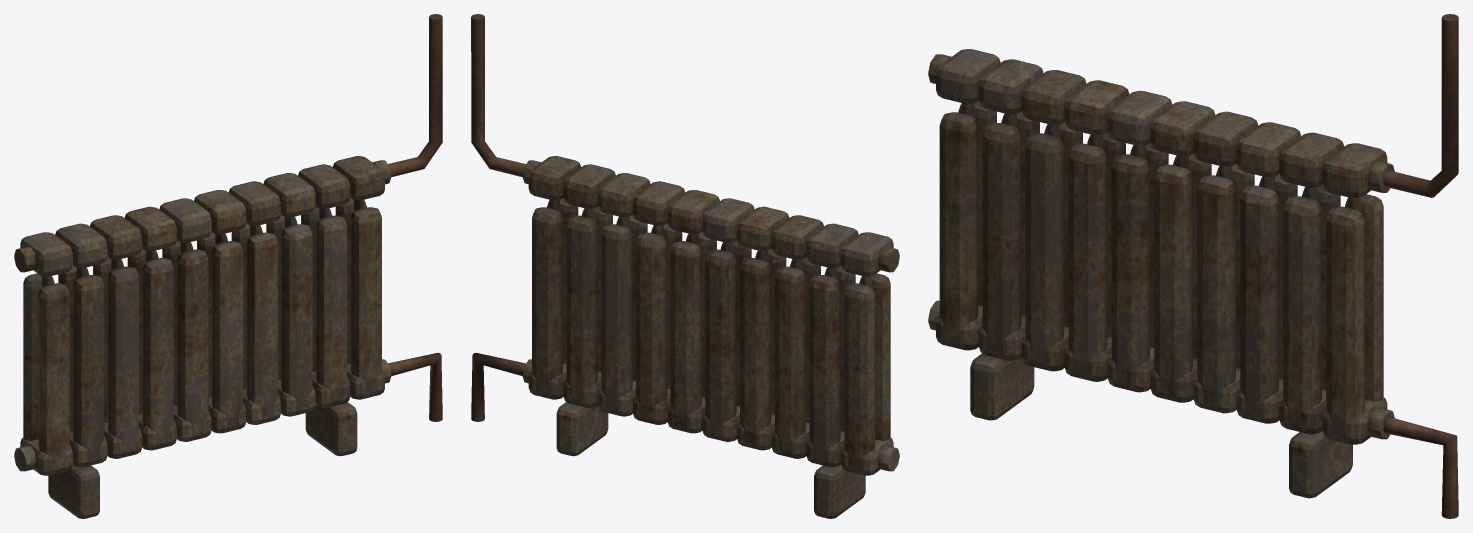
Rendered from Radiator_Basement.fbx.
3 renders of one model, left to right at view 1: azimuth 30°, elevation 25°; view 2: azimuth 150°, elevation 25°; view 3: azimuth 330°, elevation 25°, orthographic. The views are drawn at different scales.
Visible parts, largest first — view 1: Radiator_Basement_Mesh; view 2: Radiator_Basement_Mesh; view 3: Radiator_Basement_Mesh.
Boxes of the visible parts, x1,y1,x2,y2 form: Radiator_Basement_Mesh: (14, 14, 442, 518); Radiator_Basement_Mesh: (471, 14, 899, 518); Radiator_Basement_Mesh: (928, 14, 1458, 518).
Size of the model in its own units: 1.13 by 1.03 by 0.16.
